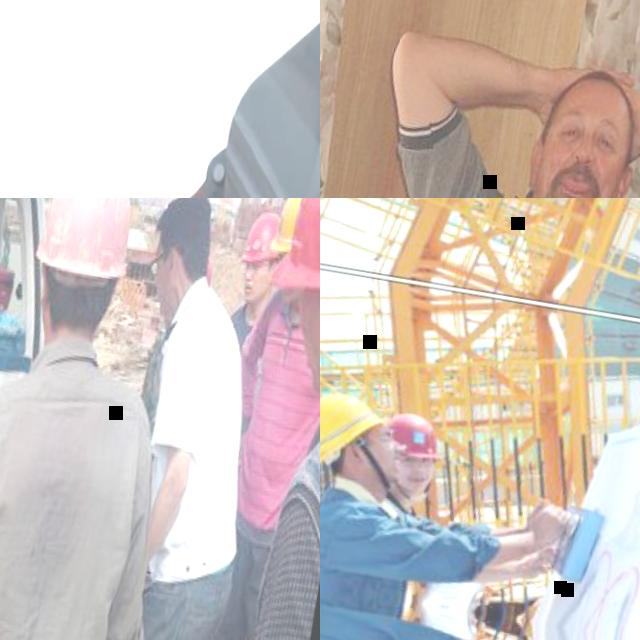Hardhat: (0, 198, 226, 640), (30, 198, 146, 284), (320, 383, 386, 476), (268, 198, 320, 307), (381, 411, 447, 459), (266, 198, 307, 259), (239, 209, 280, 268), (201, 260, 217, 287)
NO-Hardhat: (556, 65, 640, 126), (150, 198, 221, 254)
NO-Mask: (516, 149, 627, 198), (294, 320, 320, 402), (149, 279, 182, 320), (371, 440, 403, 478), (396, 466, 432, 493), (239, 277, 265, 304), (276, 281, 297, 310)
NO-Safety Vest: (0, 357, 156, 640), (134, 296, 270, 587), (222, 306, 320, 550), (235, 402, 320, 640), (320, 487, 407, 612), (212, 310, 265, 438), (320, 564, 398, 640), (137, 338, 166, 413)
Person: (75, 198, 292, 640), (167, 198, 320, 640), (320, 381, 582, 603), (320, 23, 640, 198), (206, 198, 320, 640), (363, 412, 576, 595), (134, 250, 220, 428), (320, 577, 561, 640), (224, 204, 287, 351), (332, 599, 538, 640)
vehicle: (0, 198, 320, 640), (0, 0, 320, 198)
